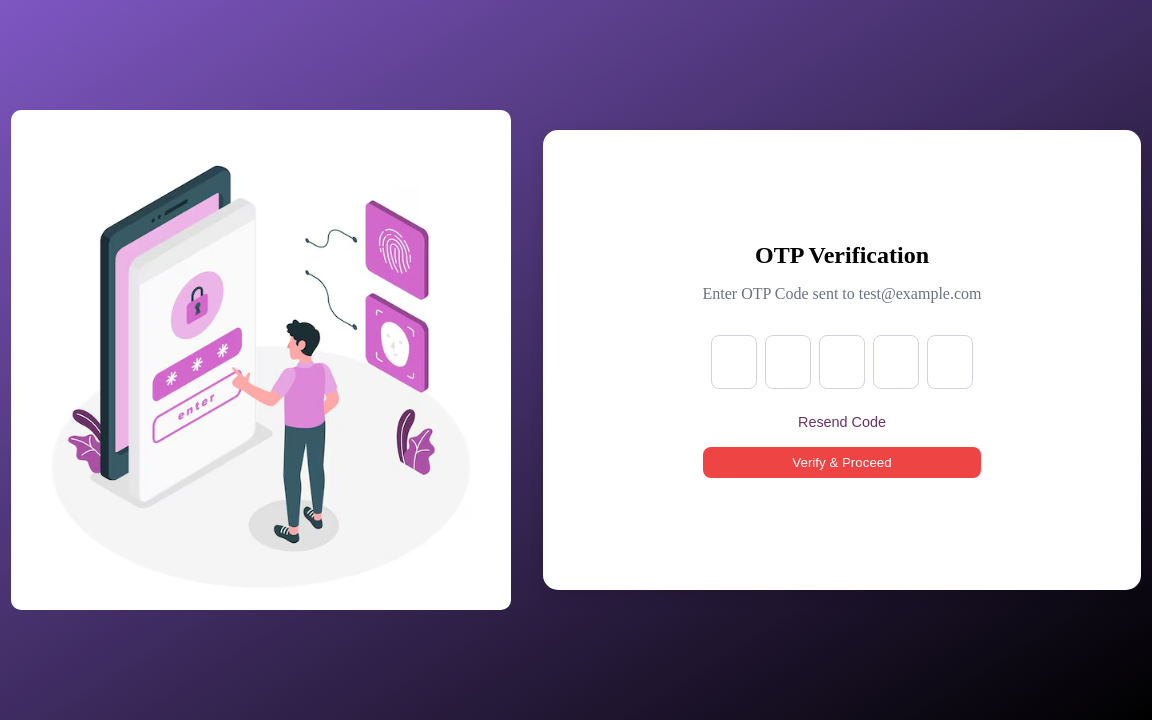
Test case: OTPVerification Component › shows error if OTP is incomplete on submit
The image size is (1152, 720).
Step 1. Click the button "Verify & Proceed" → click(842, 462), box [702,447,982,478]
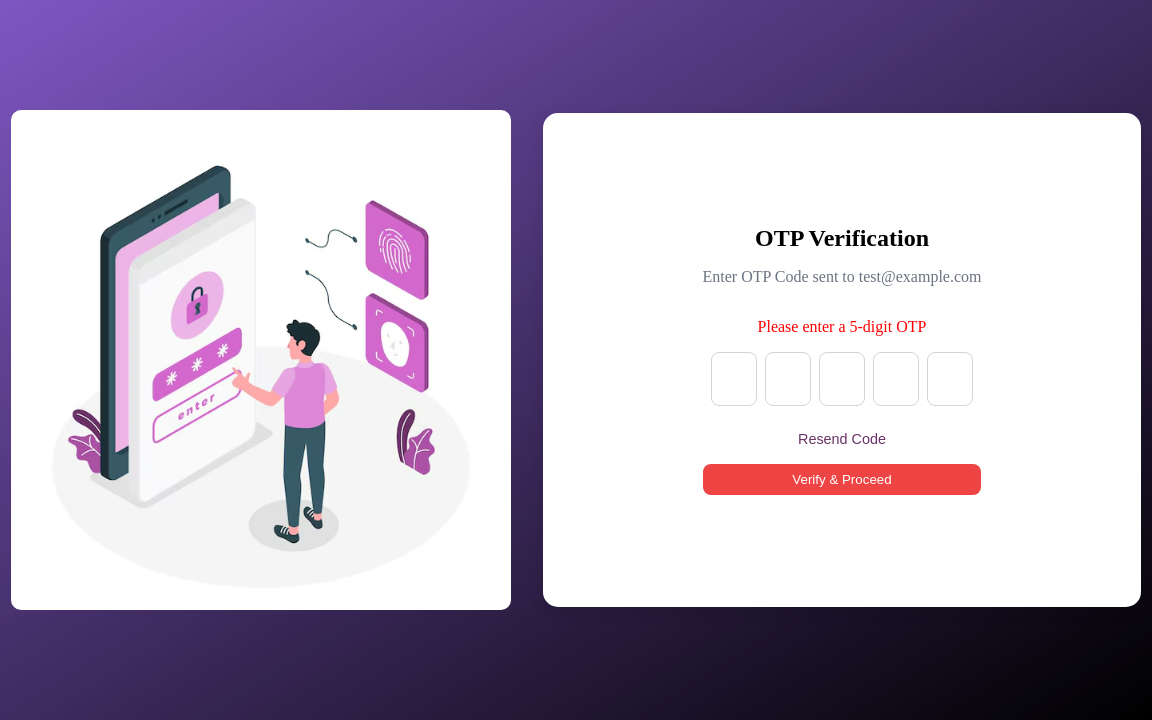
Result: the text "Please enter a 5-digit OTP" is shown at [758,318,926,335]
